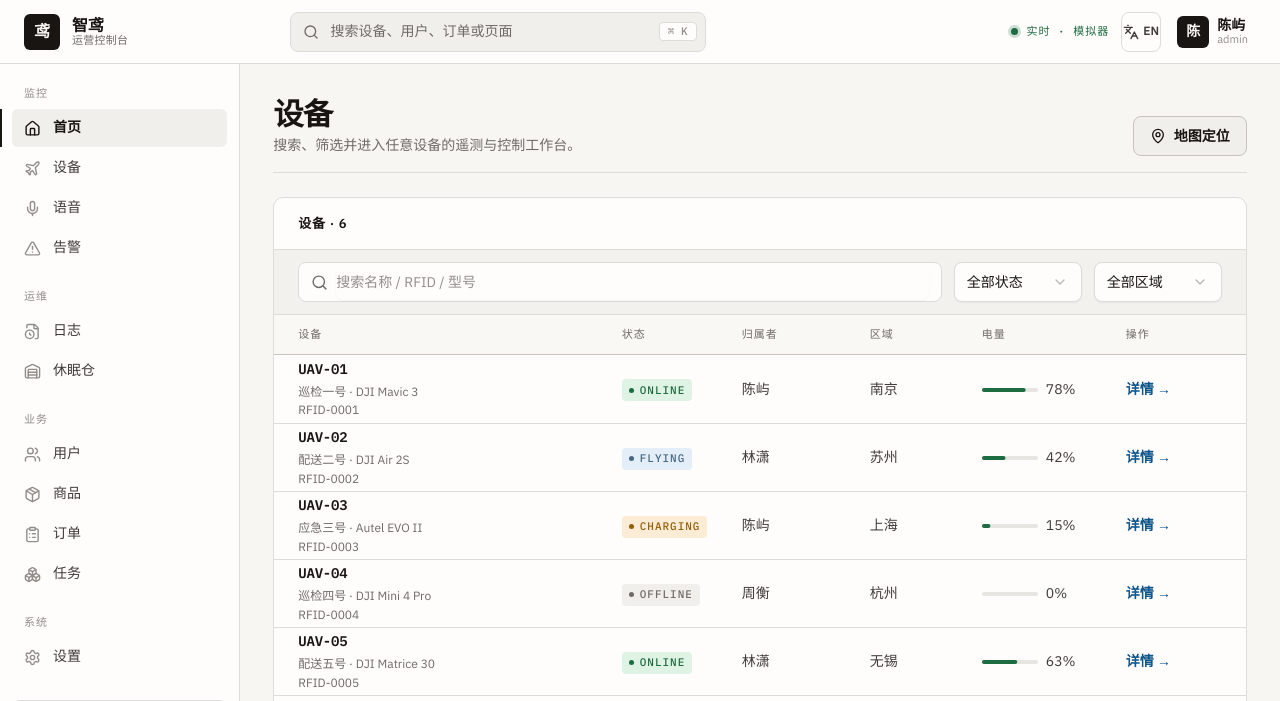
Test case: UavListView › filters by status and by region
The image size is (1280, 701).
Select "FLYING" in the 1st dropdown named "状态" at (1018, 282), box [954,262,1082,302]
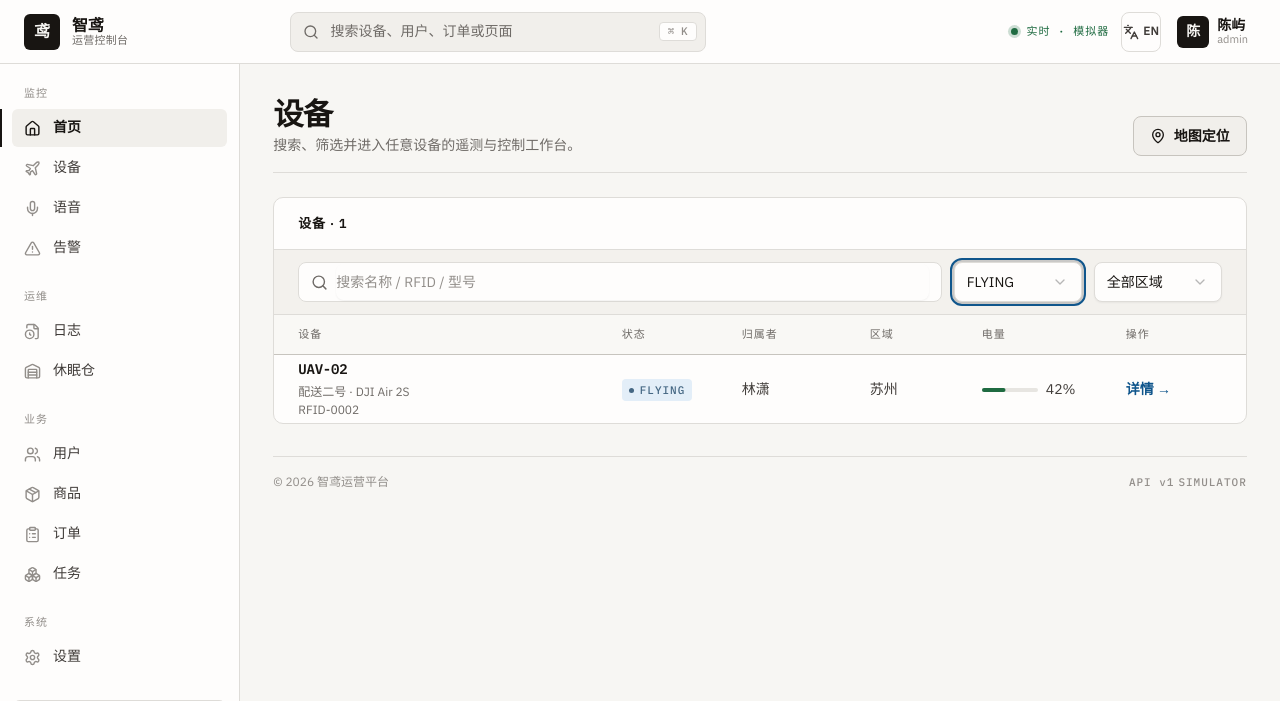
Now the heading "设备 · 1" is shown, box [298,214,348,234]
Select "全部状态" in the 1st dropdown named "状态" at (1018, 282), box [954,262,1082,302]
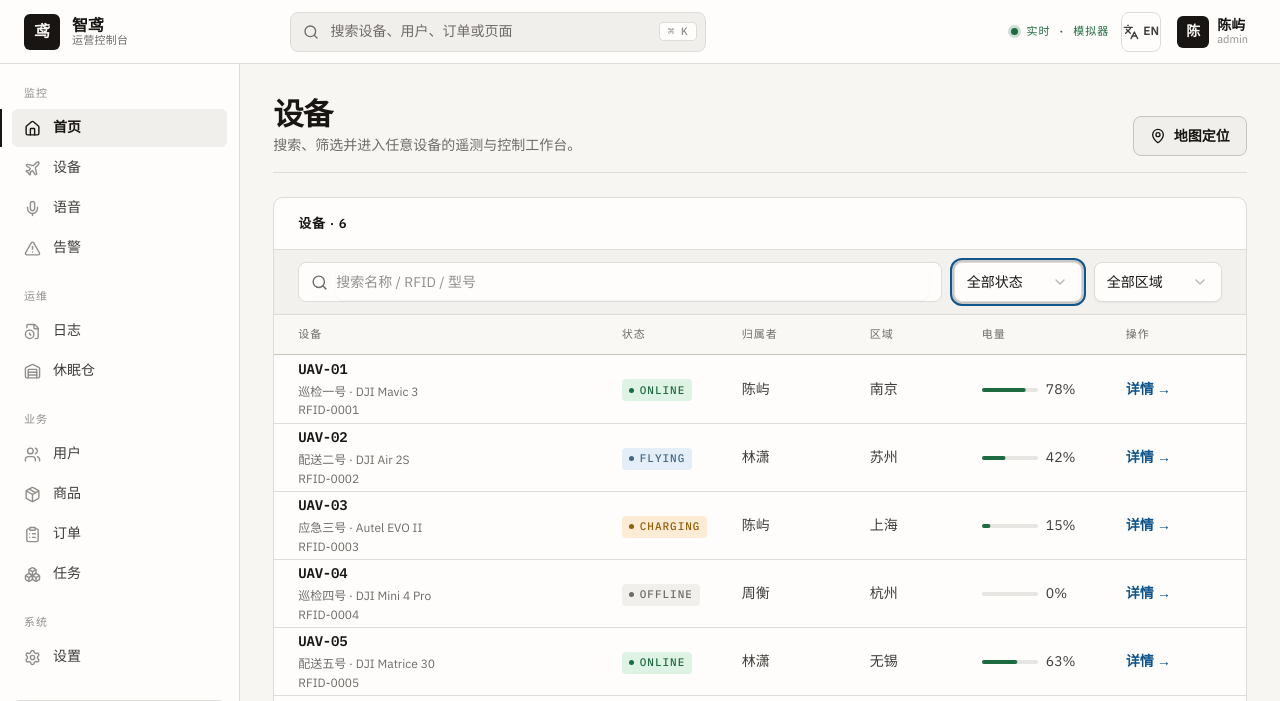
Select "南京" in the 2nd dropdown named "区域" at (1158, 282), box [1094,262,1222,302]
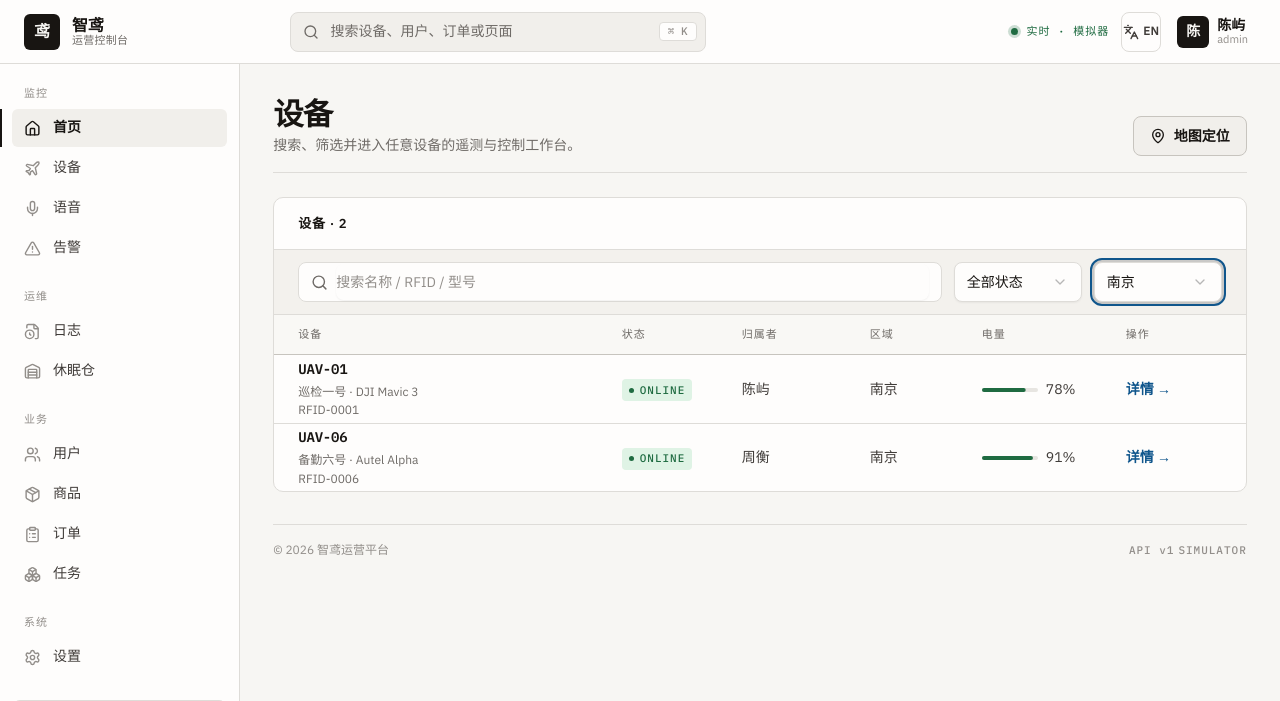
Now the heading "设备 · 2" is shown, box [298,214,348,234]
